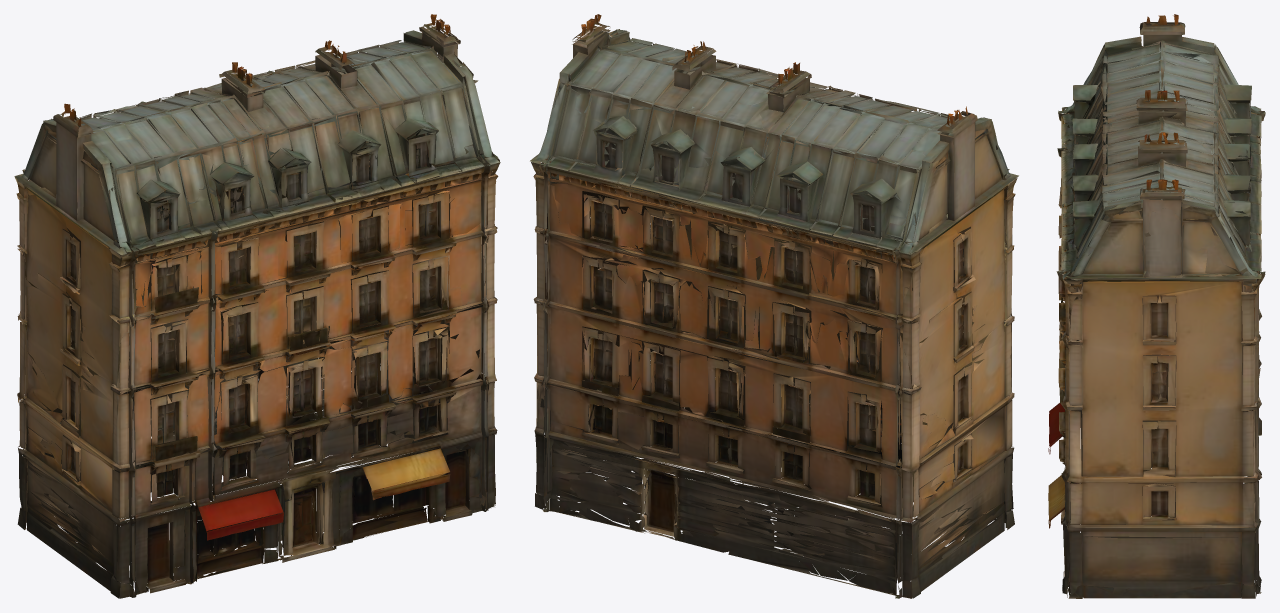
Rendered from ch03_perimeter_tenement.glb.
The picture shows the model from 3 angles, left to right: view 1: azimuth 30°, elevation 25°; view 2: azimuth 150°, elevation 25°; view 3: azimuth 270°, elevation 25°; orthographic projection. The views are drawn at different scales.
Visible parts, largest first — view 1: material; view 2: material; view 3: material.
Part boxes in pixels (x1,y1,x2,y2): material: (14,14,500,598); material: (530,14,1018,598); material: (1048,14,1265,598).
Bounding box in the file's own units: 0.7701 × 0.8643 × 0.4077.
1 material, 1 textured.
